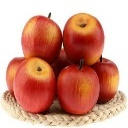apple: (56, 60, 100, 115)
